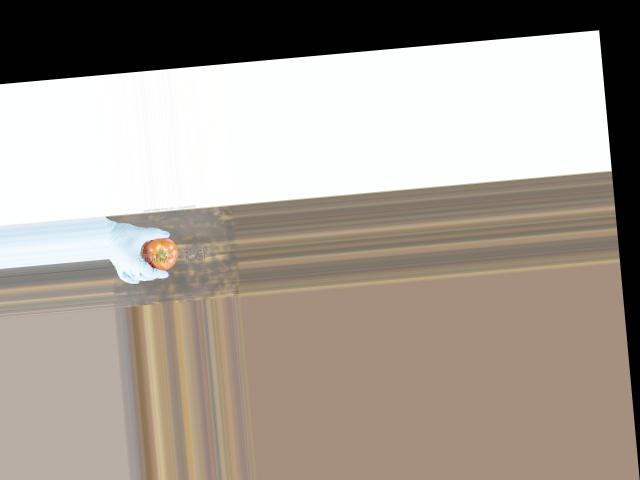tomato: (141, 236, 180, 271)
